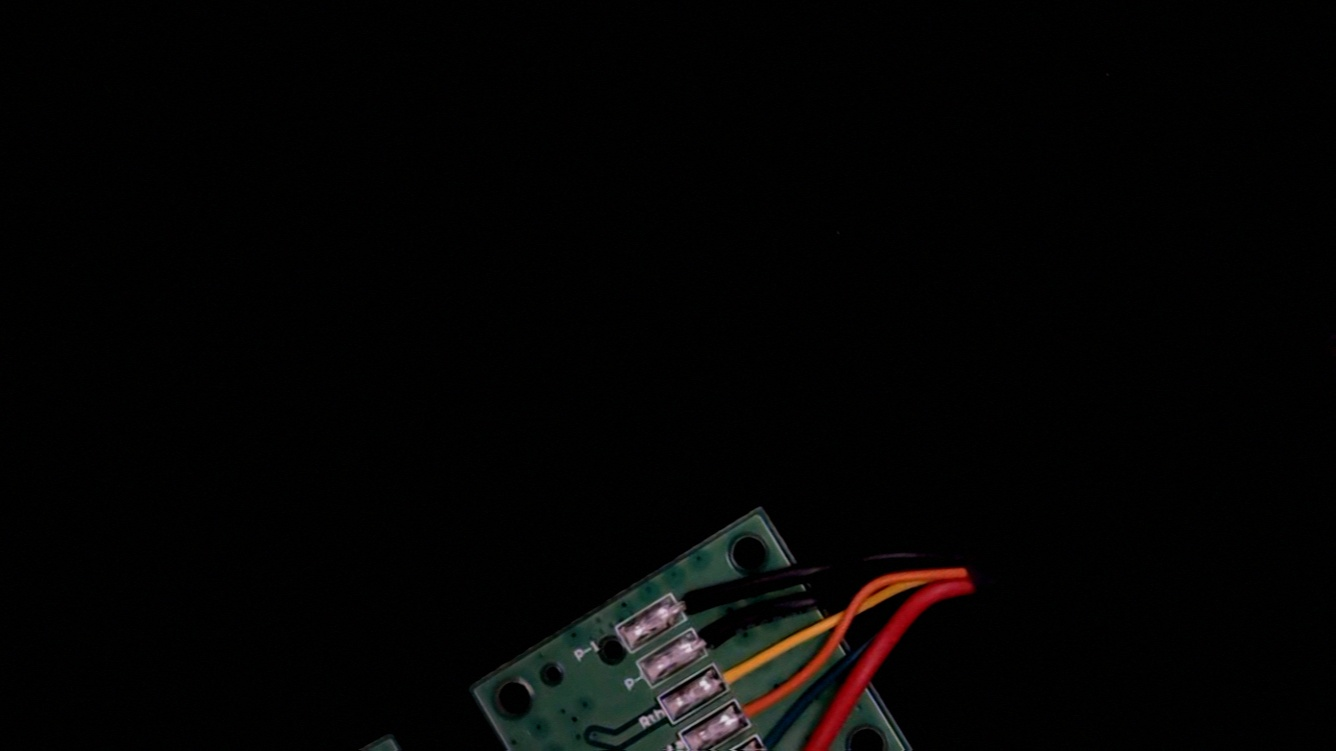Black: (680, 605, 753, 665)
Black1: (658, 565, 736, 630)
Green: (741, 711, 810, 751)
Orange: (722, 677, 791, 737)
Red: (767, 746, 840, 751)
Yellow: (697, 637, 773, 702)
